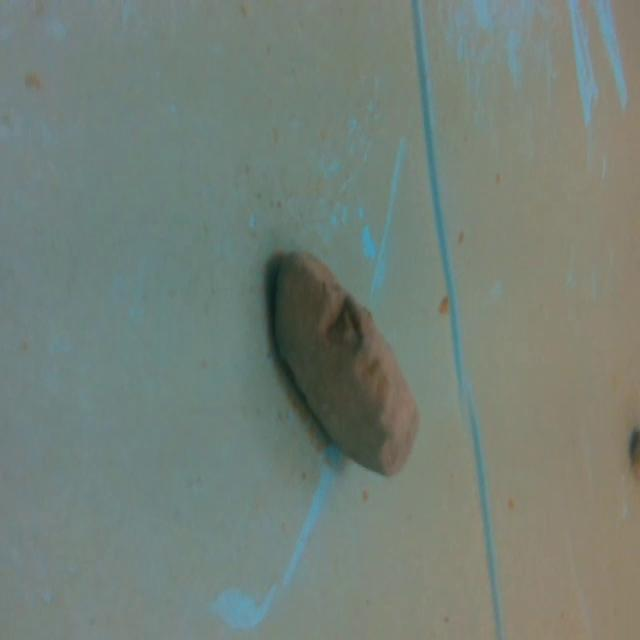rock: (264, 243, 424, 485)
